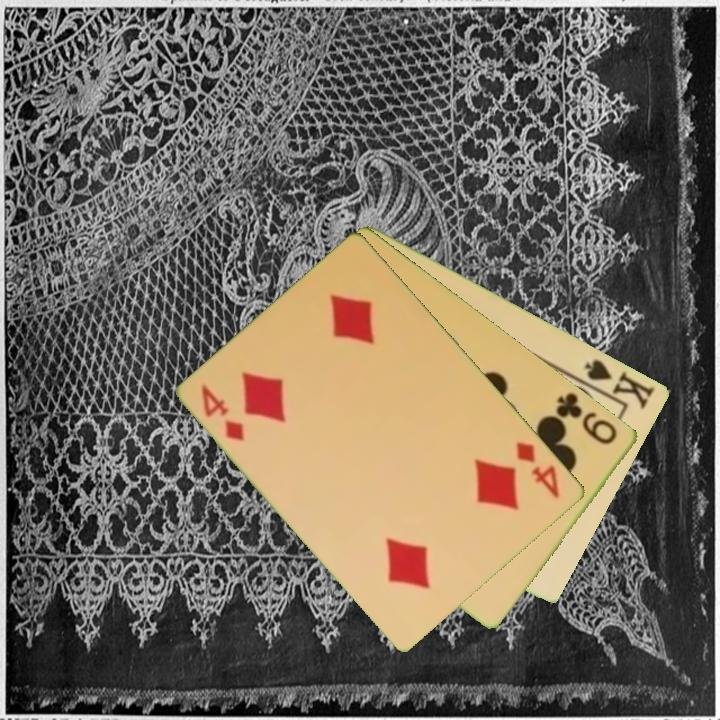4d: (513, 437, 563, 502), (198, 380, 248, 445)
9c: (553, 388, 621, 448)
Ks: (573, 355, 659, 412)
